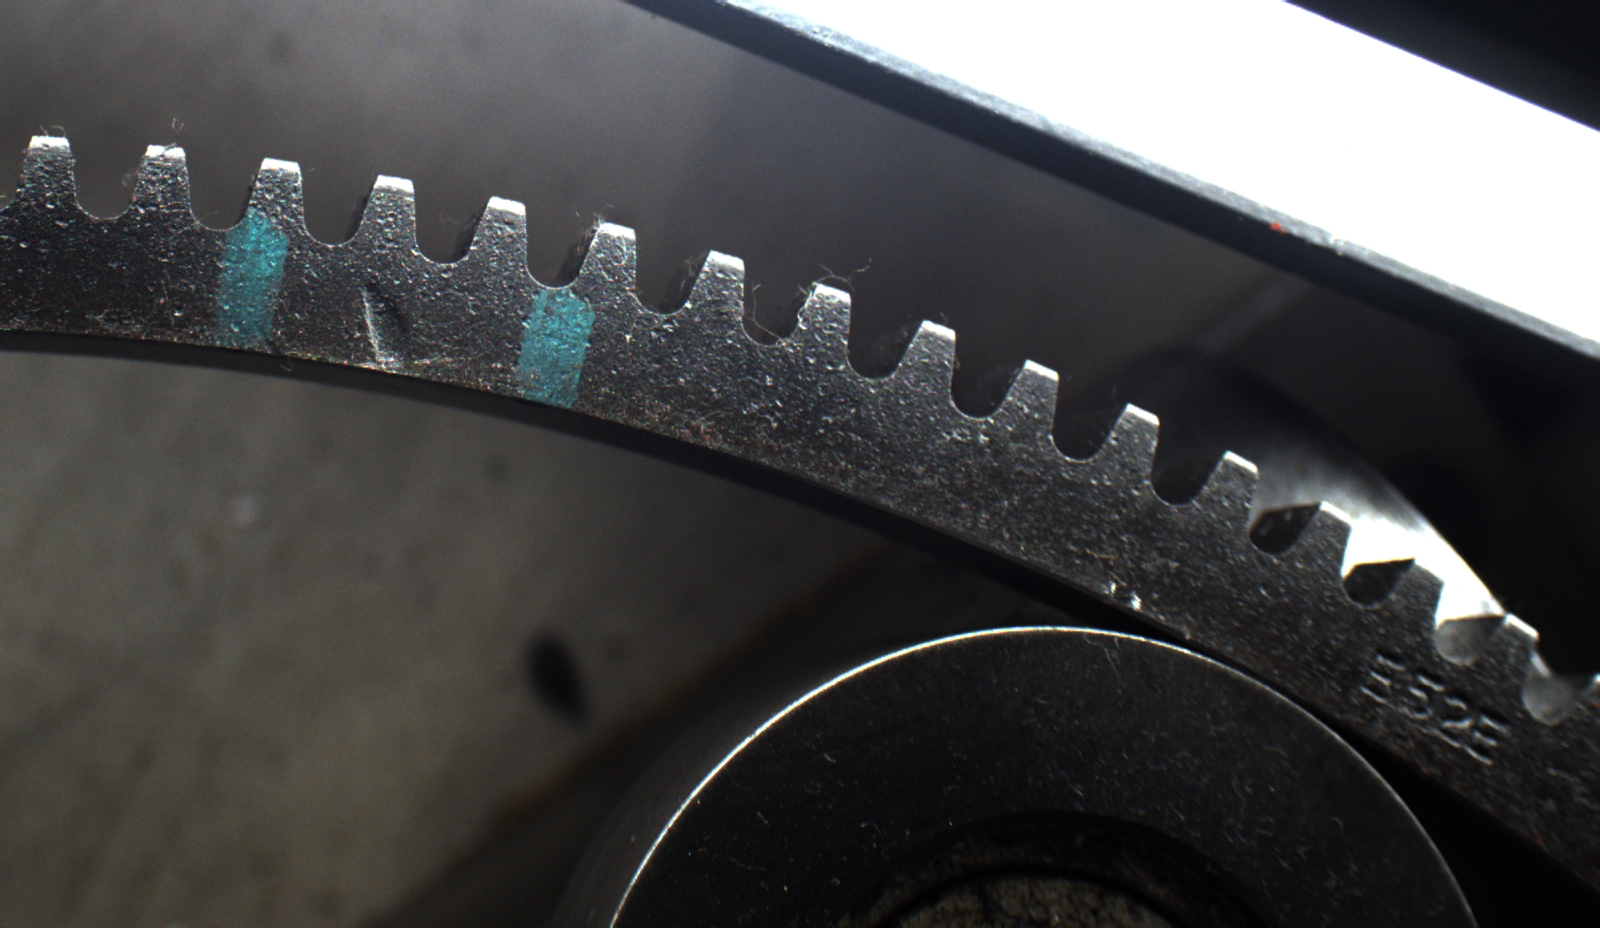test: (664, 416, 928, 616), (317, 270, 451, 415)
